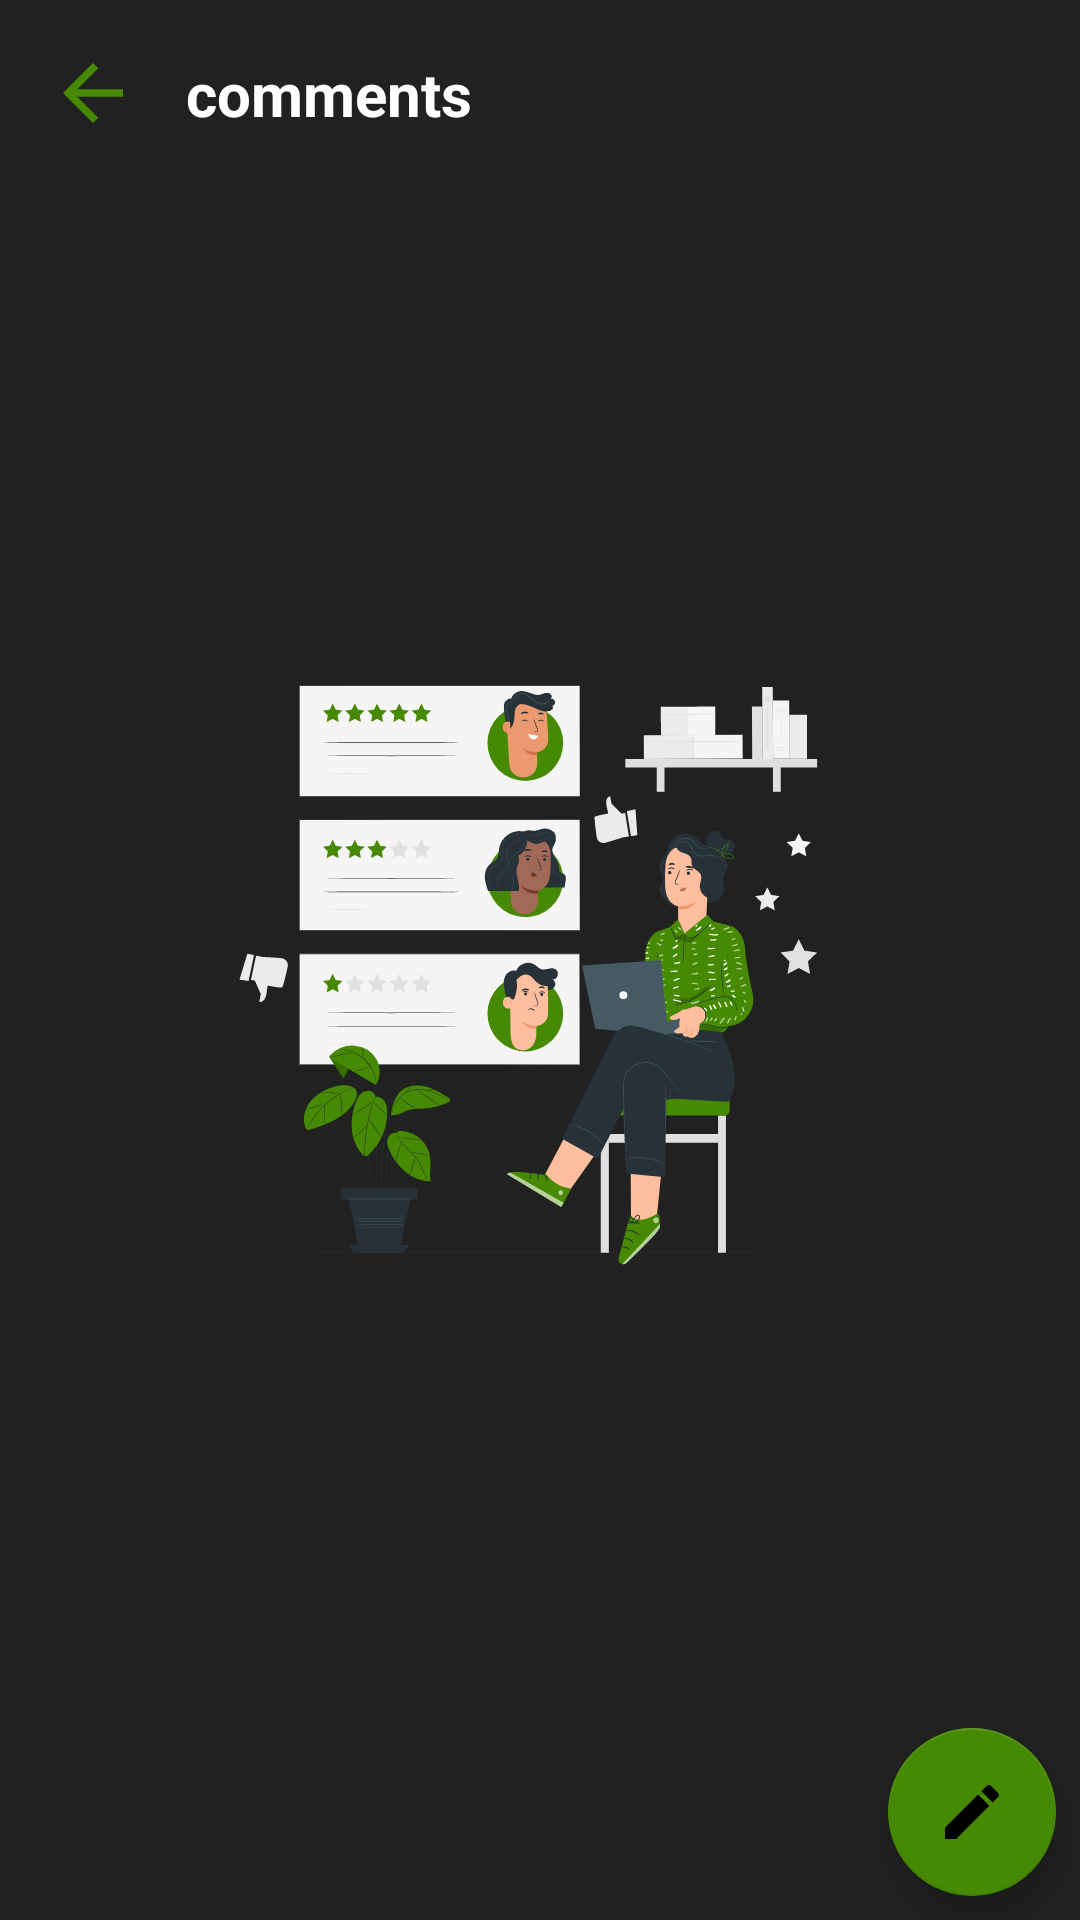

Screen size 1080x1920. Icon name, then its box in pixels as (x1,y1,x2,y2):
back: (63,63,123,123)
edit: (888,1728,1056,1896)
